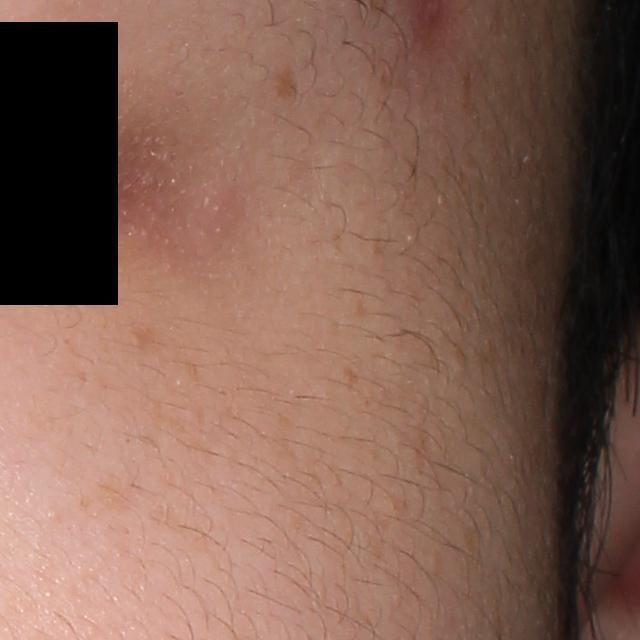melasma: (81, 472, 148, 515), (271, 56, 300, 102)
